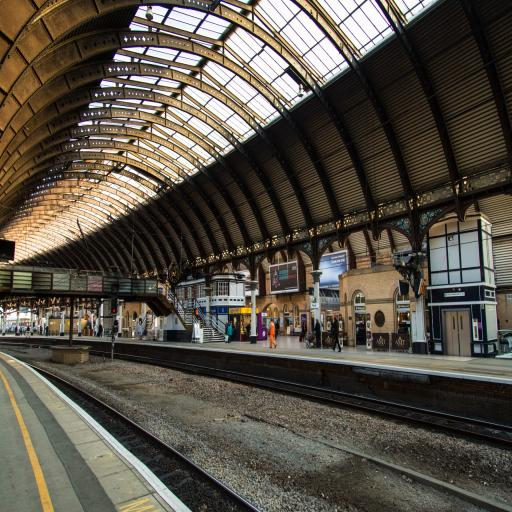platform_edge: (1, 341, 196, 512)
